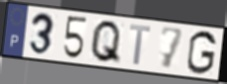3: (27, 10, 58, 57)
5: (62, 15, 90, 61)
7: (159, 25, 184, 72)
G: (185, 29, 218, 76)
Q: (88, 19, 123, 66)
T: (128, 23, 153, 67)
